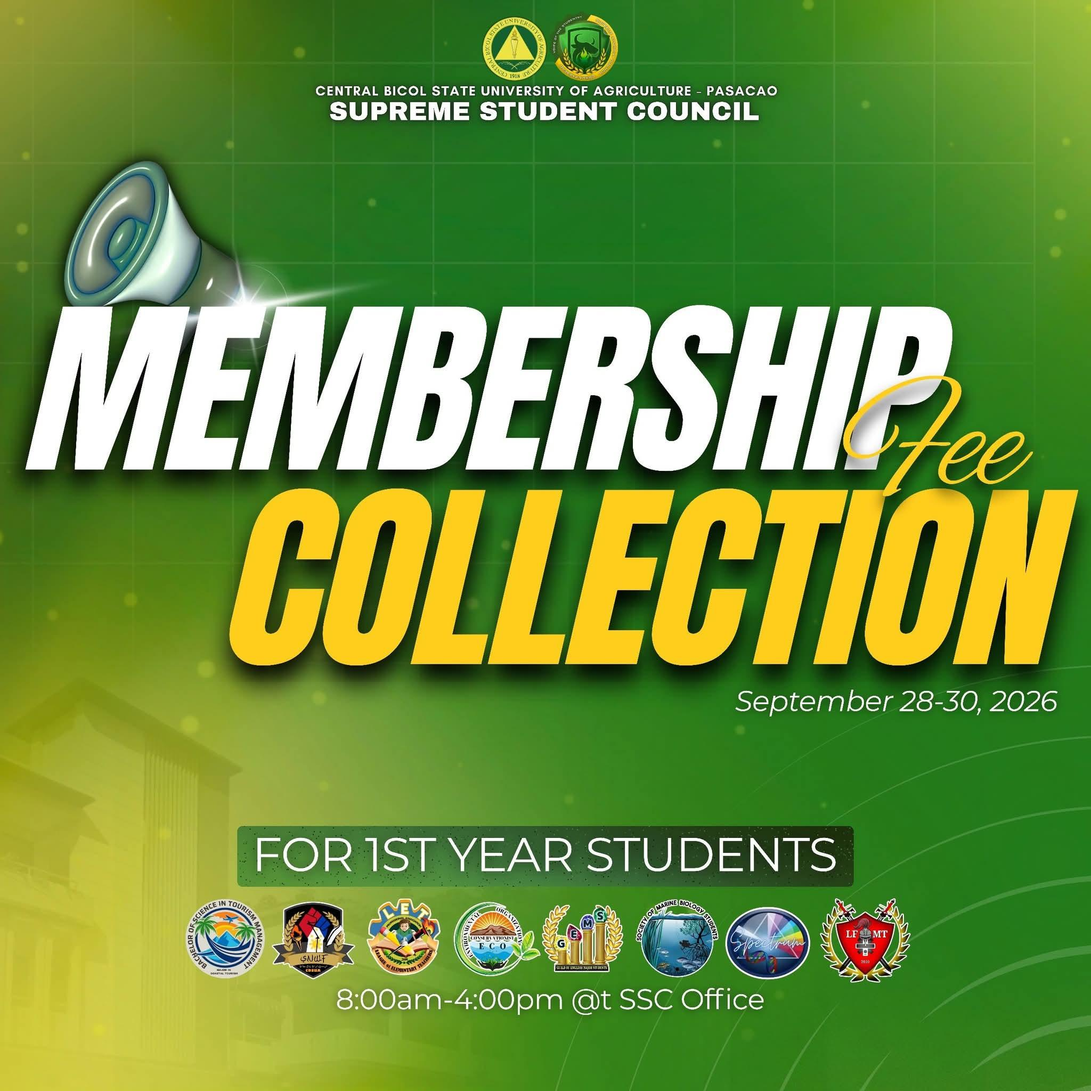embellishment: (63, 158, 249, 305)
logo: (818, 893, 913, 988), (270, 895, 359, 984), (631, 894, 721, 982), (723, 901, 813, 986), (182, 894, 266, 982), (537, 894, 626, 977), (451, 896, 541, 978), (361, 892, 445, 979), (545, 9, 622, 87), (477, 9, 551, 87)
text: (5, 297, 1090, 678), (252, 830, 842, 878), (309, 77, 784, 129), (328, 983, 767, 1019), (728, 686, 1065, 720)
underlay: (237, 822, 852, 890)
